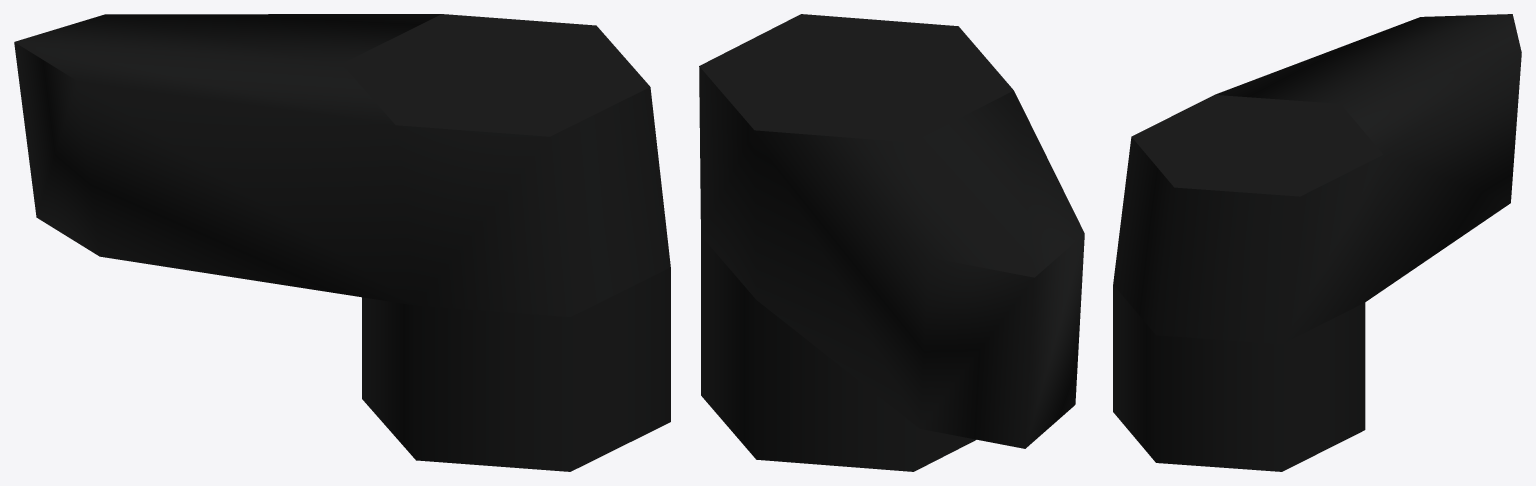
Rendered from Small_Lever.obj.
3 renders of one model, left to right at view 1: azimuth 30°, elevation 25°; view 2: azimuth 150°, elevation 25°; view 3: azimuth 270°, elevation 25°, orthographic. The views are drawn at different scales.
Visible parts, largest first — view 1: Cube.009; view 2: Cube.009; view 3: Cube.009.
Boxes of the visible parts, x1,y1,x2,y2 form: Cube.009: (14,14,670,471); Cube.009: (699,14,1084,471); Cube.009: (1113,14,1521,471).
Size of the model in its own units: 0.1506 by 0.1024 by 0.1396.
1 material, 1 textured.
